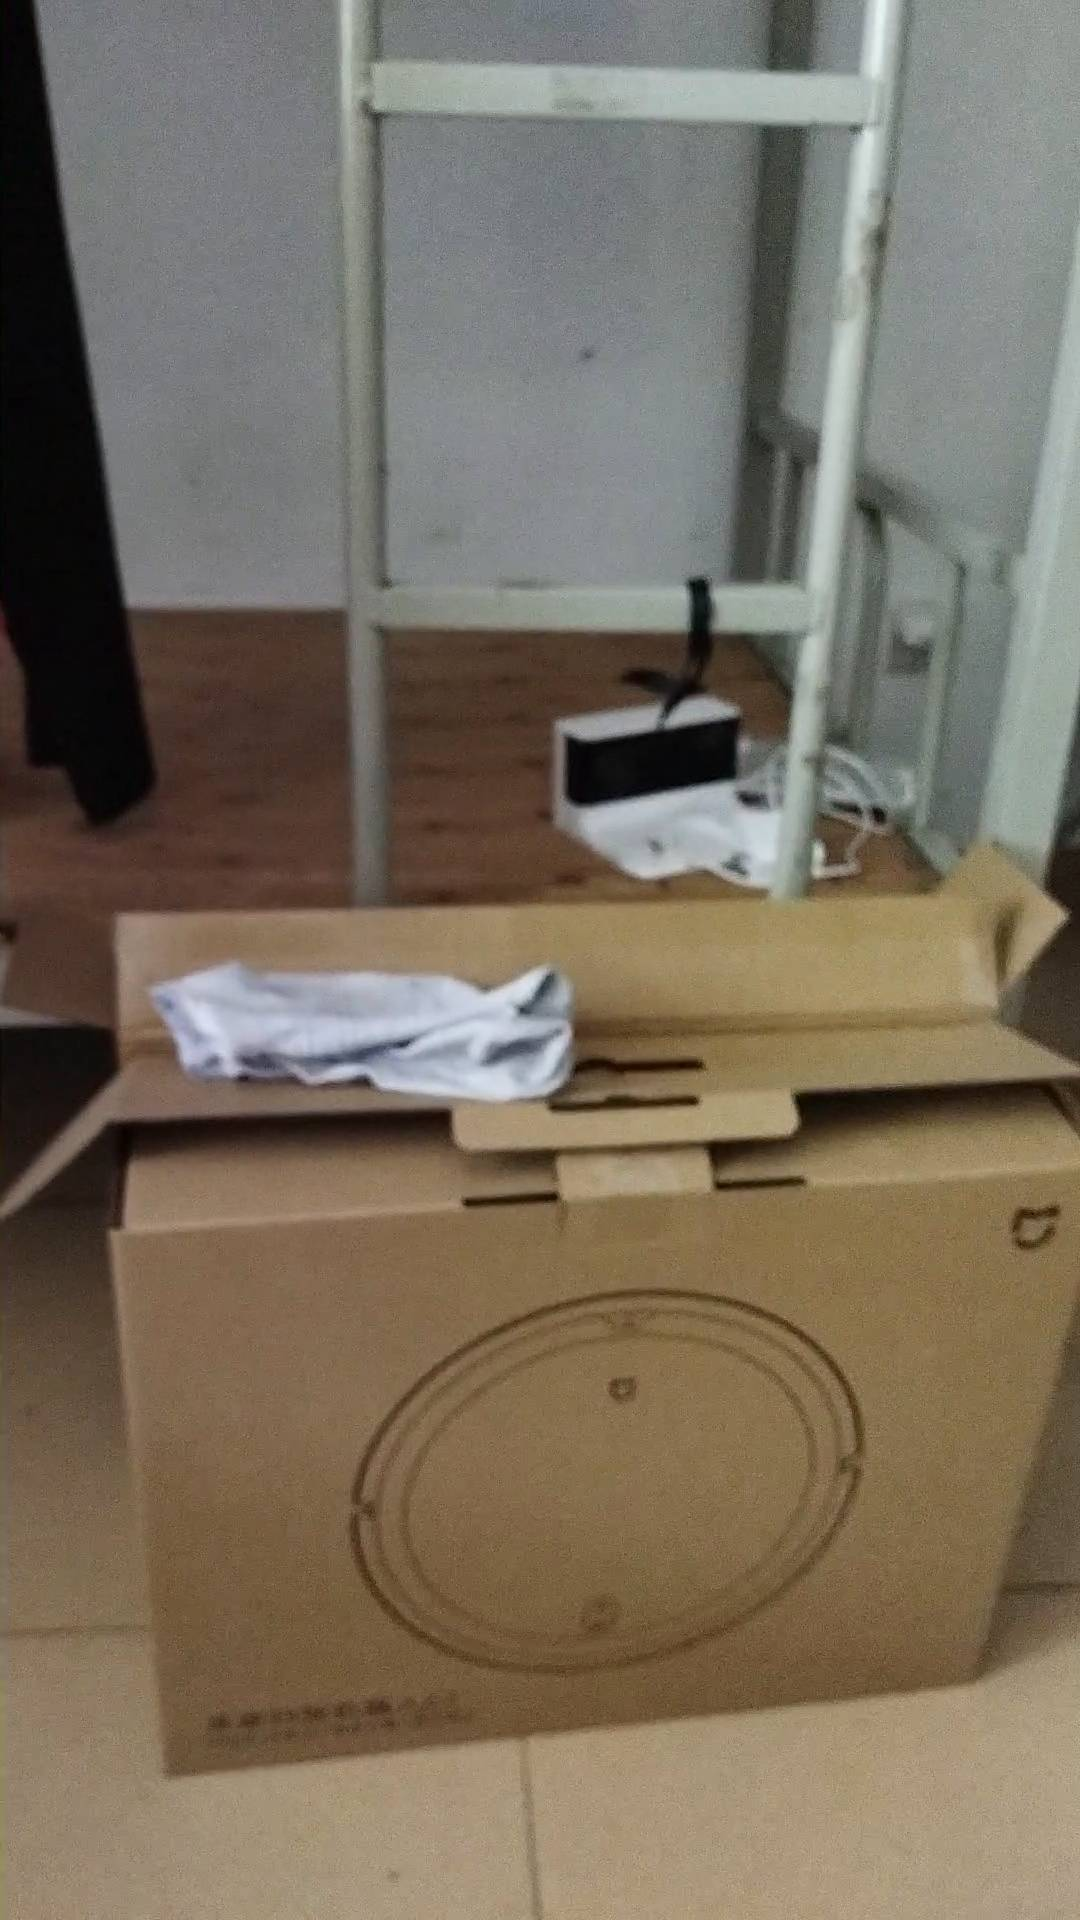recharge seat: (553, 692, 766, 881)
